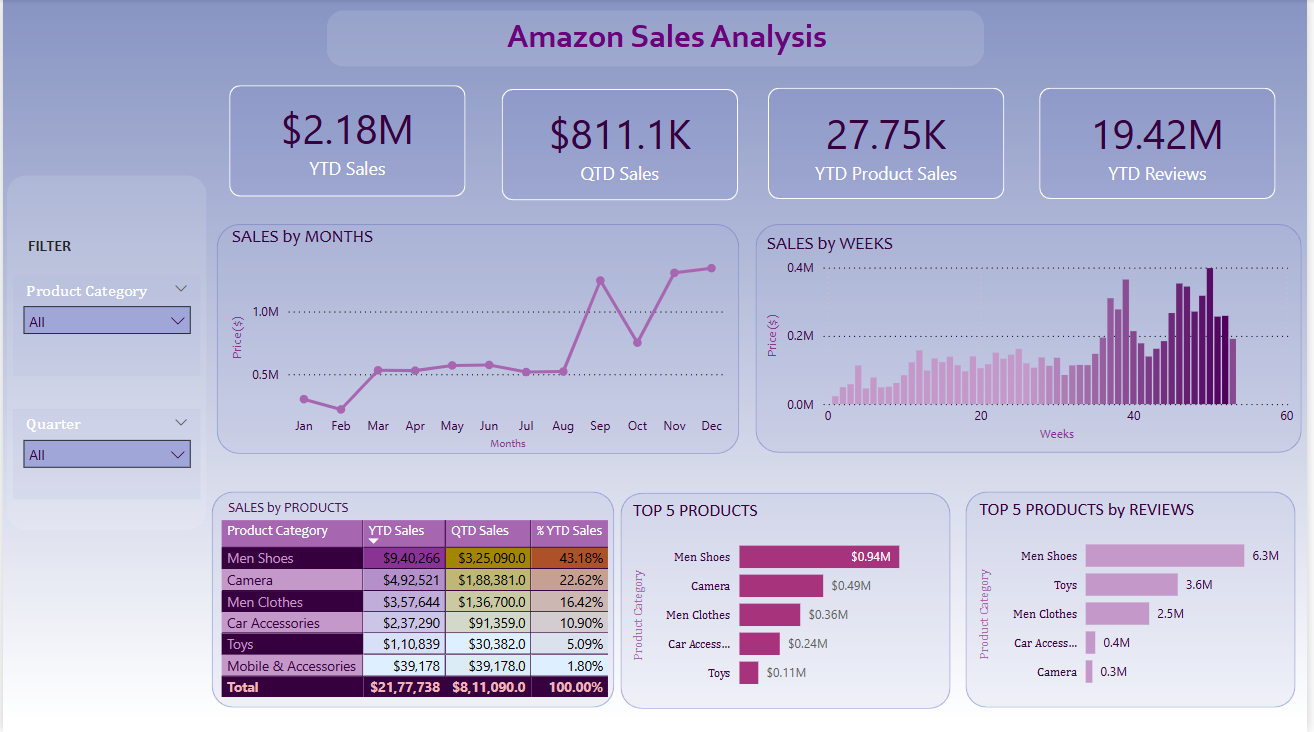

What the dashboard file says about the page in this screenshot:
{"tool":"powerbi","page":{"name":"Page 1","canvas":[1280,720],"ordinal":0},"visuals":[{"type":"shape","box":[317.8,11,645.4,55.2],"z":0},{"type":"shape","box":[3.7,173,196.3,348.5],"z":0,"group":"g4"},{"type":"shape","box":[738.3,220.9,536.2,224.5],"z":0,"group":"g1"},{"type":"textbox","box":[489.6,12.3,377.9,55.2],"z":1000},{"type":"columnChart","title":"SALES by WEEKS","fields":{"Category":["Data_table.Week Days"],"Y":["Sum(Amazon_Data.Price(Dollar))"]},"box":[744.4,228,527.6,211],"z":1000,"group":"g1"},{"type":"slicer","fields":{"Values":["Amazon_Data.Product Category"]},"box":[9.8,271.1,184.1,99.1],"z":1000,"group":"g4"},{"type":"slicer","fields":{"Values":["Data_table.Quarter"]},"box":[9.8,401.9,184.1,88.9],"z":2000,"group":"g4"},{"type":"shape","box":[222.1,84.7,231.9,109.2],"z":3000},{"type":"textbox","box":[19.7,228.2,98.2,29.4],"z":3000,"group":"g4"},{"type":"shape","box":[489.6,88.3,231.9,109.2],"z":4000},{"type":"shape","box":[750.9,87.1,231.9,109.2],"z":5000},{"type":"shape","box":[1017.2,87.1,231.9,109.2],"z":6000},{"type":"card","fields":{"Values":["Amazon_Data.YTD Sales"]},"box":[230.7,84.7,214.7,105.5],"z":7000},{"type":"card","fields":{"Values":["Amazon_Data.QTD Sales"]},"box":[498.2,89.6,214.7,105.5],"z":8000},{"type":"card","fields":{"Values":["Amazon_Data.YTD Product Sales"]},"box":[759.5,89.6,214.7,105.5],"z":9000},{"type":"card","fields":{"Values":["Amazon_Data.YTD Reviews"]},"box":[1025.8,89.6,214.7,105.5],"z":10000},{"type":"shape","box":[209.9,220.9,512.9,225.8],"z":11000,"group":"g3"},{"type":"group","id":"g1","title":"Group 2","box":[738.3,220.9,536.5,225],"z":11000},{"type":"lineChart","title":"SALES by MONTHS","fields":{"Category":["Data_table.Months"],"Y":["Sum(Amazon_Data.Price(Dollar))"]},"box":[219.2,222.1,495.6,225.8],"z":12000,"group":"g3"},{"type":"textbox","box":[216,484.7,231.9,36.8],"z":12000},{"type":"shape","box":[606.1,484.7,323.9,212.3],"z":13000},{"type":"shape","box":[204.9,483.4,395.1,212.3],"z":14000,"group":"g2"},{"type":"shape","box":[944.8,483.4,323.9,212.3],"z":14000},{"type":"group","id":"g2","title":"Group 1","box":[204.9,483.4,395.1,212.3],"z":15000},{"type":"pivotTable","fields":{"Rows":["Amazon_Data.Product Category"],"Values":["Amazon_Data.YTD Sales1","Amazon_Data.QTD Sales","Divide(Amazon_Data.YTD Sales, ScopedEval(Amazon_Data.YTD Sales, []))"]},"box":[209.8,506.7,390.2,189],"z":15000,"group":"g2"},{"type":"group","id":"g3","title":"Group 3","box":[209.9,220.9,513.2,226.4],"z":16000},{"type":"clusteredBarChart","title":"TOP 5 PRODUCTS","fields":{"Category":["Amazon_Data.Product Category"],"Y":["Amazon_Data.YTD Sales"]},"box":[613.4,491.3,311.5,199],"z":17000},{"type":"clusteredBarChart","title":"TOP 5 PRODUCTS by REVIEWS","fields":{"Category":["Amazon_Data.Product Category"],"Y":["Amazon_Data.YTD Reviews"]},"box":[953.7,489.9,311.5,199],"z":18000},{"type":"group","id":"g4","title":"Group 4","box":[3.7,173,196.3,348.5],"z":20002}]}

Visuals, with their boxes in screenshot pixels (x1, y1, x2, y2), scaled from the page's 1280x720 canvas onto the 1314x732 screenshot:
shape: rect(326, 11, 989, 67)
shape: rect(4, 176, 205, 530)
shape: rect(758, 225, 1308, 453)
textbox: rect(503, 13, 891, 69)
"SALES by WEEKS" columnChart: rect(764, 232, 1306, 446)
slicer - Amazon_Data.Product Category: rect(10, 276, 199, 376)
slicer - Data_table.Quarter: rect(10, 409, 199, 499)
shape: rect(228, 86, 466, 197)
textbox: rect(20, 232, 121, 262)
shape: rect(503, 90, 741, 201)
shape: rect(771, 89, 1009, 200)
shape: rect(1044, 89, 1282, 200)
card - Amazon_Data.YTD Sales: rect(237, 86, 457, 193)
card - Amazon_Data.QTD Sales: rect(511, 91, 732, 198)
card - Amazon_Data.YTD Product Sales: rect(780, 91, 1000, 198)
card - Amazon_Data.YTD Reviews: rect(1053, 91, 1273, 198)
shape: rect(215, 225, 742, 454)
"Group 2" group: rect(758, 225, 1309, 453)
"SALES by MONTHS" lineChart: rect(225, 226, 734, 455)
textbox: rect(222, 493, 460, 530)
shape: rect(622, 493, 955, 709)
shape: rect(210, 491, 616, 707)
shape: rect(970, 491, 1302, 707)
"Group 1" group: rect(210, 491, 616, 707)
pivotTable - Amazon_Data.Product Category x Amazon_Data.YTD Sales1: rect(215, 515, 616, 707)
"Group 3" group: rect(215, 225, 742, 455)
"TOP 5 PRODUCTS" clusteredBarChart: rect(630, 499, 949, 702)
"TOP 5 PRODUCTS by REVIEWS" clusteredBarChart: rect(979, 498, 1299, 700)
"Group 4" group: rect(4, 176, 205, 530)
